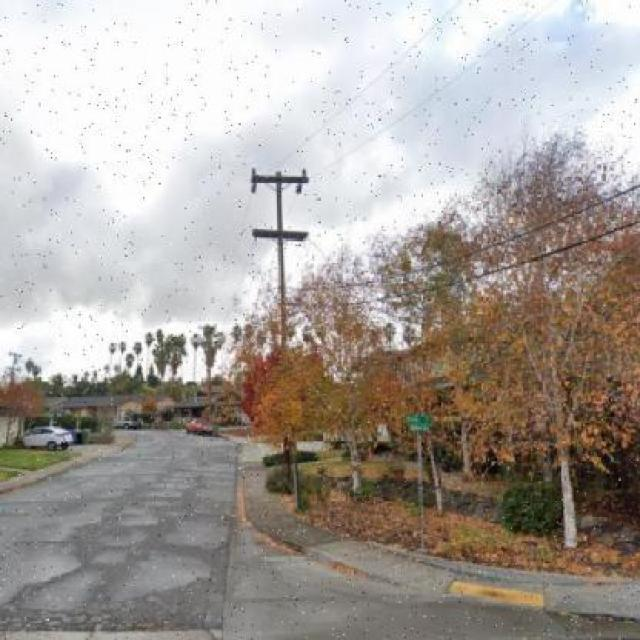pole: (244, 137, 322, 512)
